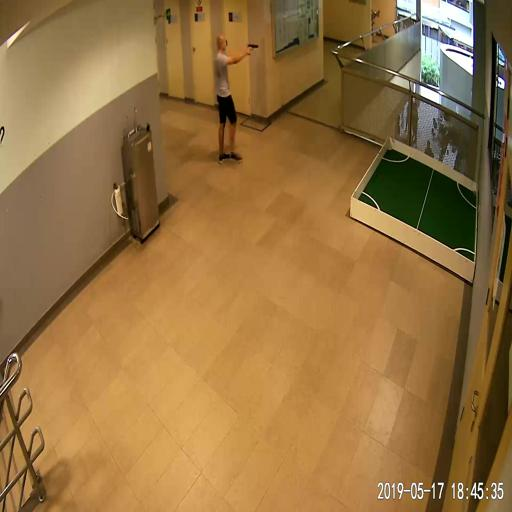pistol: (247, 43, 258, 55)
